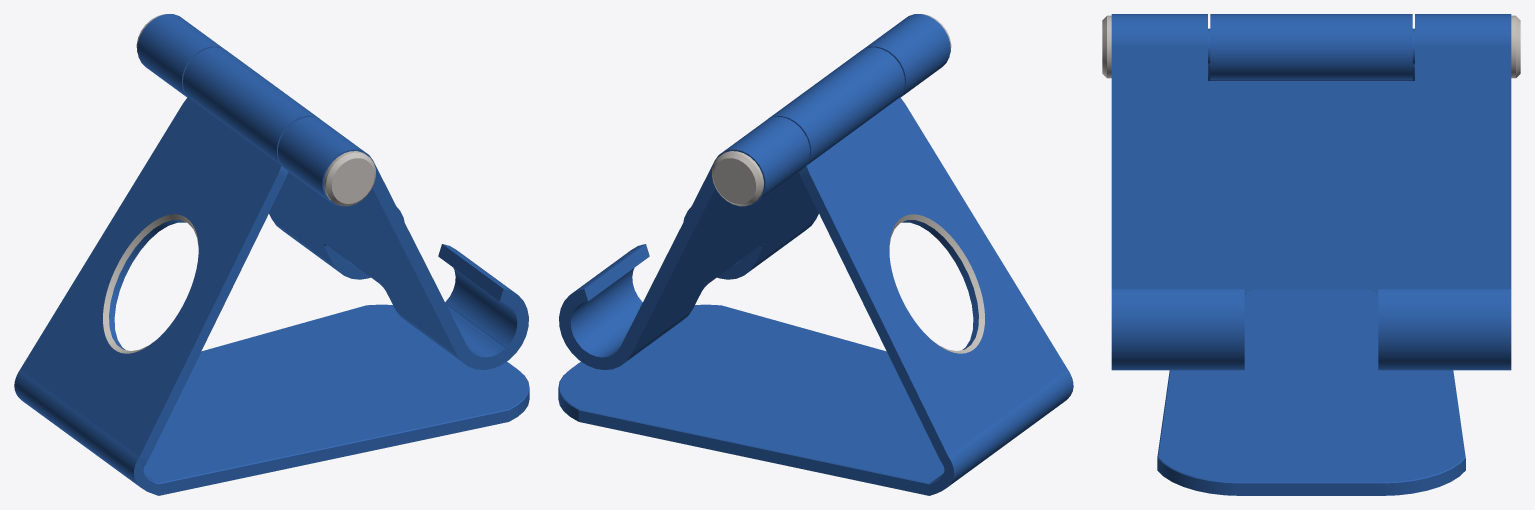
Rendered from iPad_Stand.glb.
The picture shows the model from 3 angles, left to right: view 1: azimuth 30°, elevation 25°; view 2: azimuth 150°, elevation 25°; view 3: azimuth 270°, elevation 25°; orthographic projection. The views are drawn at different scales.
Visible parts, largest first — view 1: stand-1, Stand_Top-1; view 2: stand-1, Stand_Top-1; view 3: Stand_Top-1, stand-1.
Part boxes in pixels (x1=…): stand-1: x1=14, y1=47, x2=529, y2=495; Stand_Top-1: x1=136, y1=14, x2=528, y2=369; stand-1: x1=558, y1=47, x2=1073, y2=495; Stand_Top-1: x1=559, y1=14, x2=951, y2=369; Stand_Top-1: x1=1102, y1=14, x2=1520, y2=370; stand-1: x1=1157, y1=14, x2=1465, y2=495.
Size of the model in its own units: 0.1416 by 0.1088 by 0.1153.
